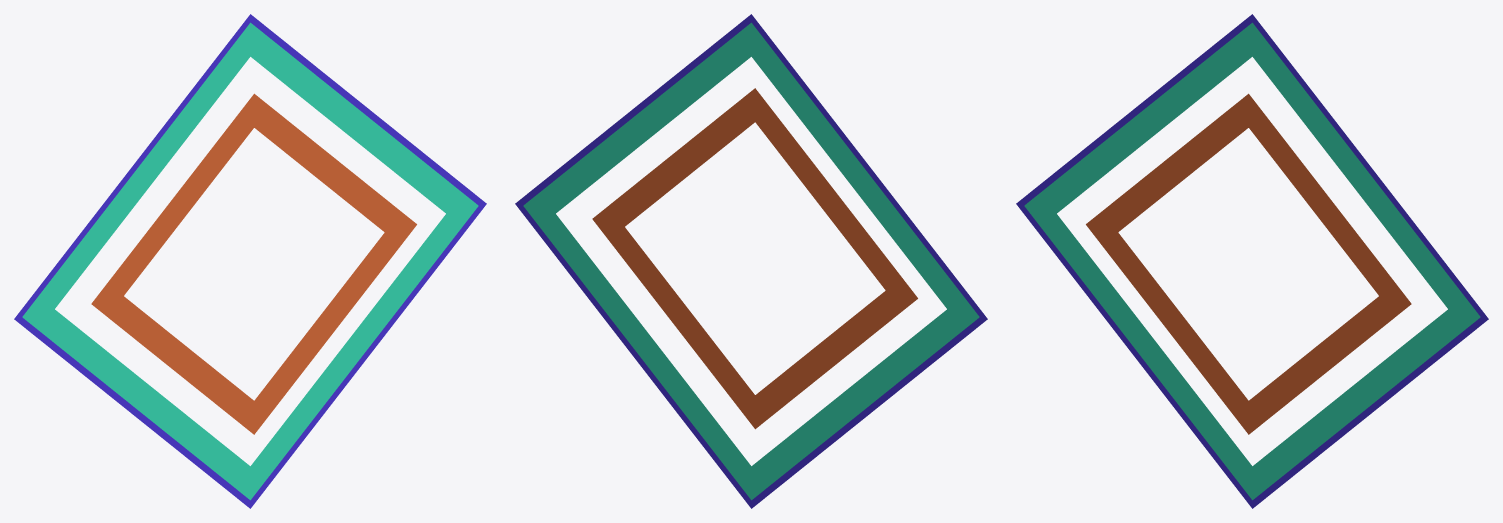
The model's file is Diamonds.fbx.
3 views of the same model, side by side, from view 1: azimuth 30°, elevation 25°; view 2: azimuth 150°, elevation 25°; view 3: azimuth 330°, elevation 25° (orthographic).
Visible parts, largest first — view 1: Diamond01, Diamond03, Diamond02; view 2: Diamond01, Diamond03, Diamond02; view 3: Diamond01, Diamond03, Diamond02.
Boxes of the visible parts, bbox=[...] form: Diamond01: bbox=[22, 22, 478, 500]; Diamond03: bbox=[91, 93, 416, 434]; Diamond02: bbox=[14, 14, 486, 508]; Diamond01: bbox=[523, 22, 979, 500]; Diamond03: bbox=[592, 88, 917, 429]; Diamond02: bbox=[515, 14, 987, 508]; Diamond01: bbox=[1024, 22, 1480, 500]; Diamond03: bbox=[1086, 93, 1411, 434]; Diamond02: bbox=[1016, 14, 1488, 508].
Bounding box in the file's own units: 1450 × 1450 × 20.
